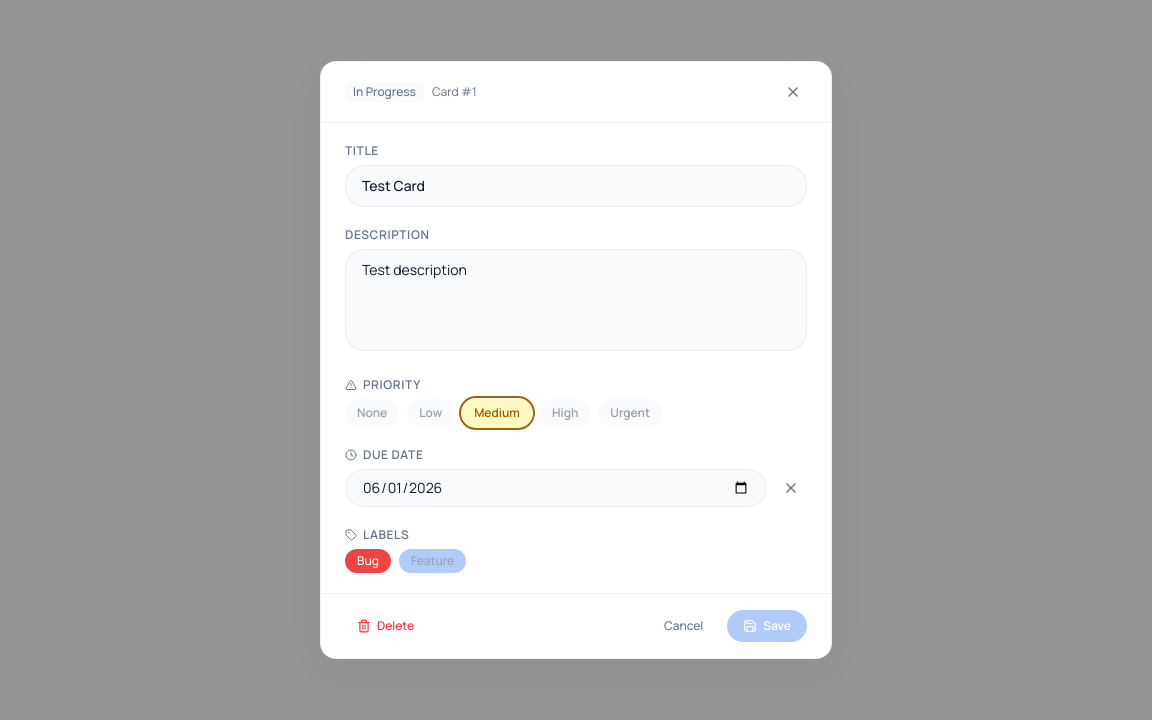
it: CardDetailModal › enables save button when title changes
Expected: the button "Save" is disabled, 727,610 -> 807,642
Replace the text in the field showing "Test Card" with "Updated Card": (576, 186) 345,165 -> 807,207
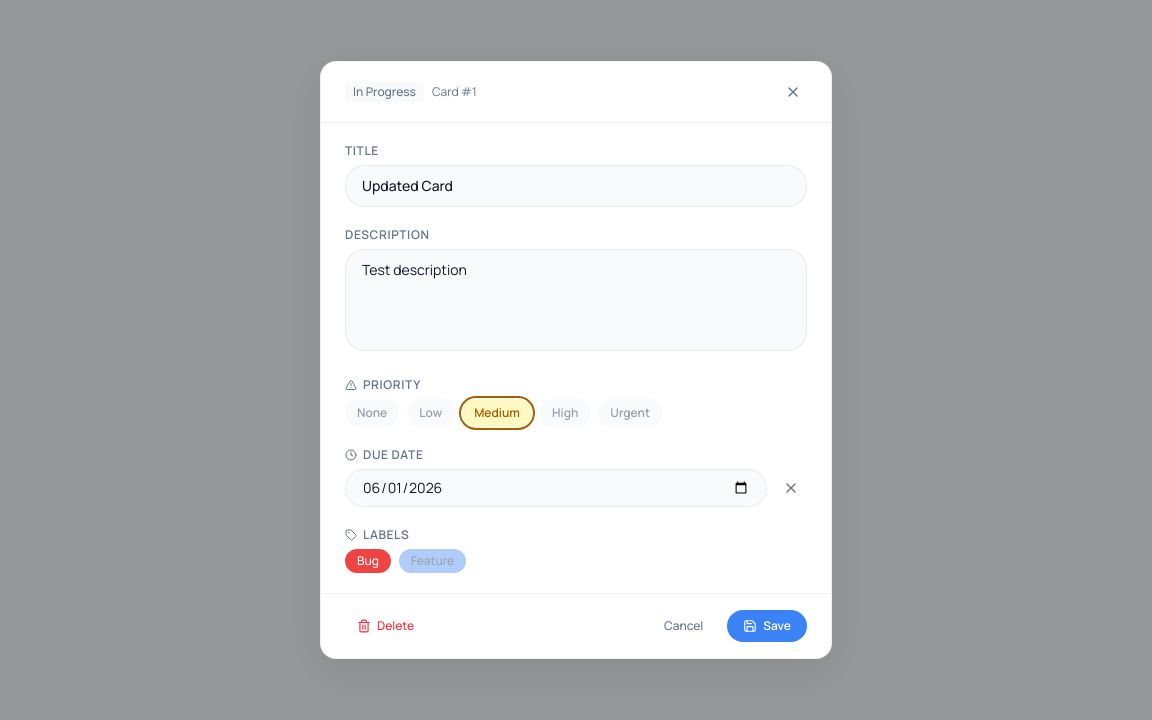
Result: the button "Save" is enabled at 727,610 -> 807,642
